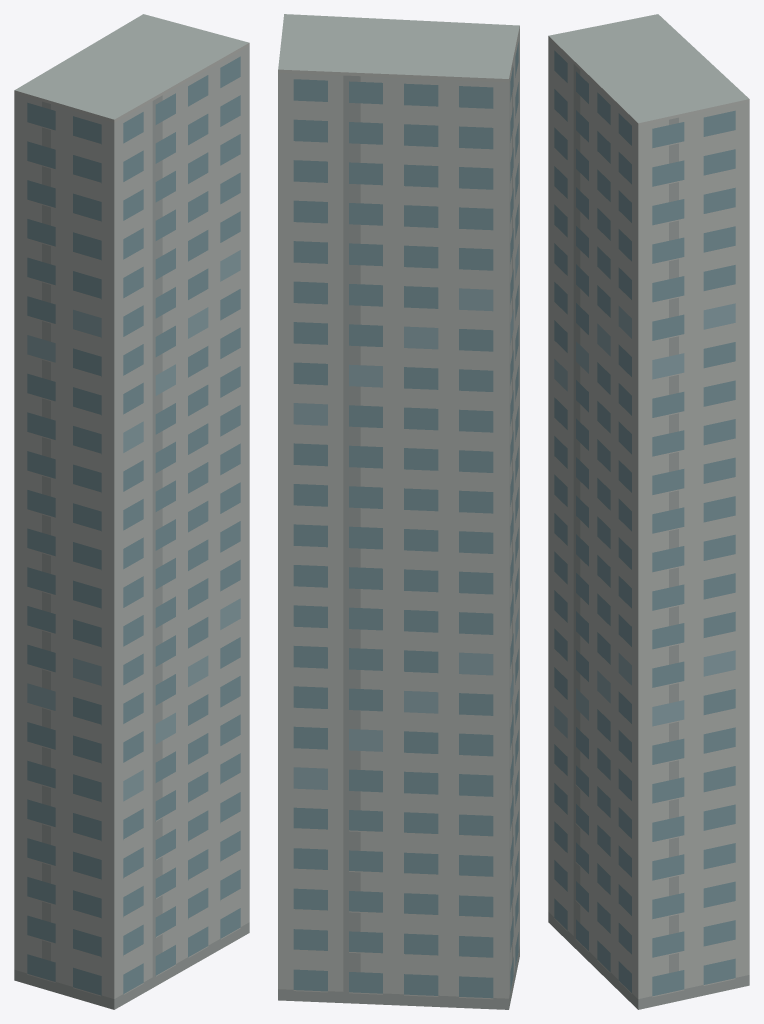
The model's file is survey-upis-32571647.glb.
The picture shows the model from 3 angles, left to right: view 1: azimuth 30°, elevation 25°; view 2: azimuth 150°, elevation 25°; view 3: azimuth 270°, elevation 25°; orthographic projection. The views are drawn at different scales.
Parts seen in each view (by area): view 1: survey-upis-32571647.tmp; view 2: survey-upis-32571647.tmp; view 3: survey-upis-32571647.tmp.
Part boxes in pixels (x1=…): survey-upis-32571647.tmp: x1=14, y1=14, x2=249, y2=1009; survey-upis-32571647.tmp: x1=278, y1=14, x2=519, y2=1009; survey-upis-32571647.tmp: x1=548, y1=14, x2=749, y2=1009.
Bounding box in the file's own units: 18.56 × 70.15 × 14.44.
